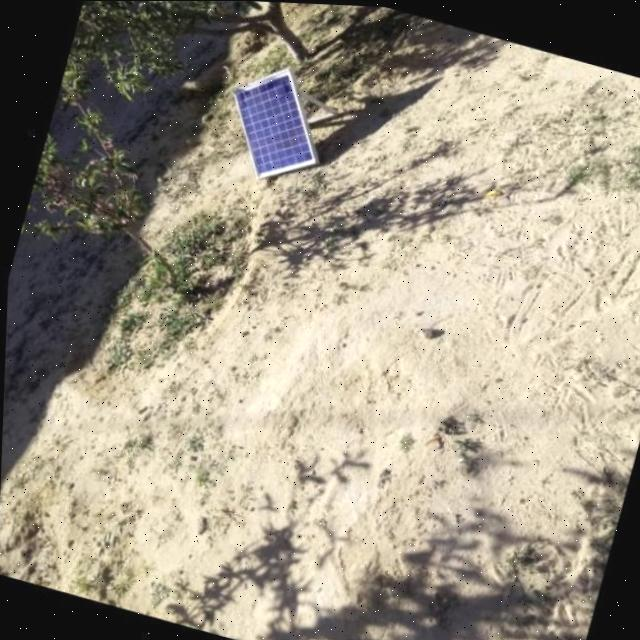Normal Solar Panel: (208, 52, 332, 190)
